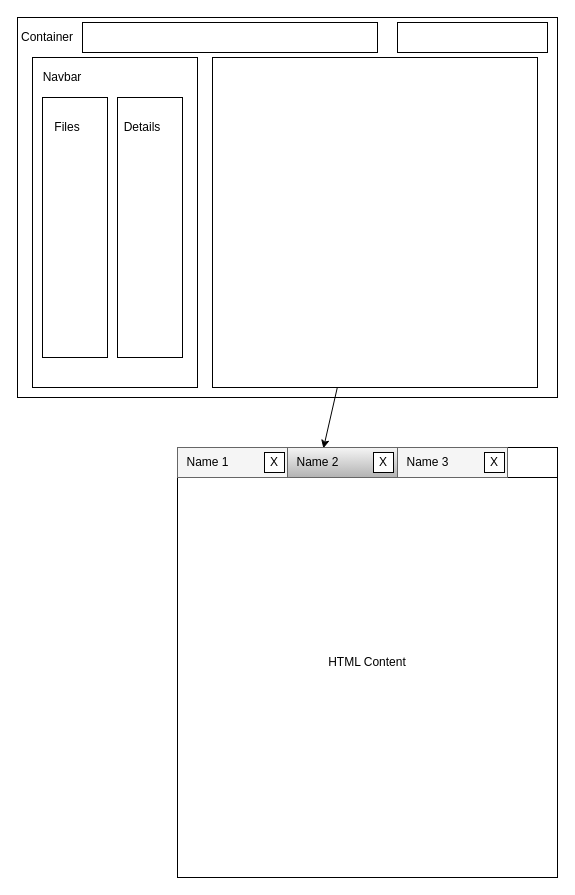
Image size: 575x895. Some labels were removed from this diagram. The shapes that lost their labels are listed below. From the top down, each one's centre as x and y in pixels, then its label:
the point at 230,37: path
the point at 472,37: buttons
the point at 375,222: Content
